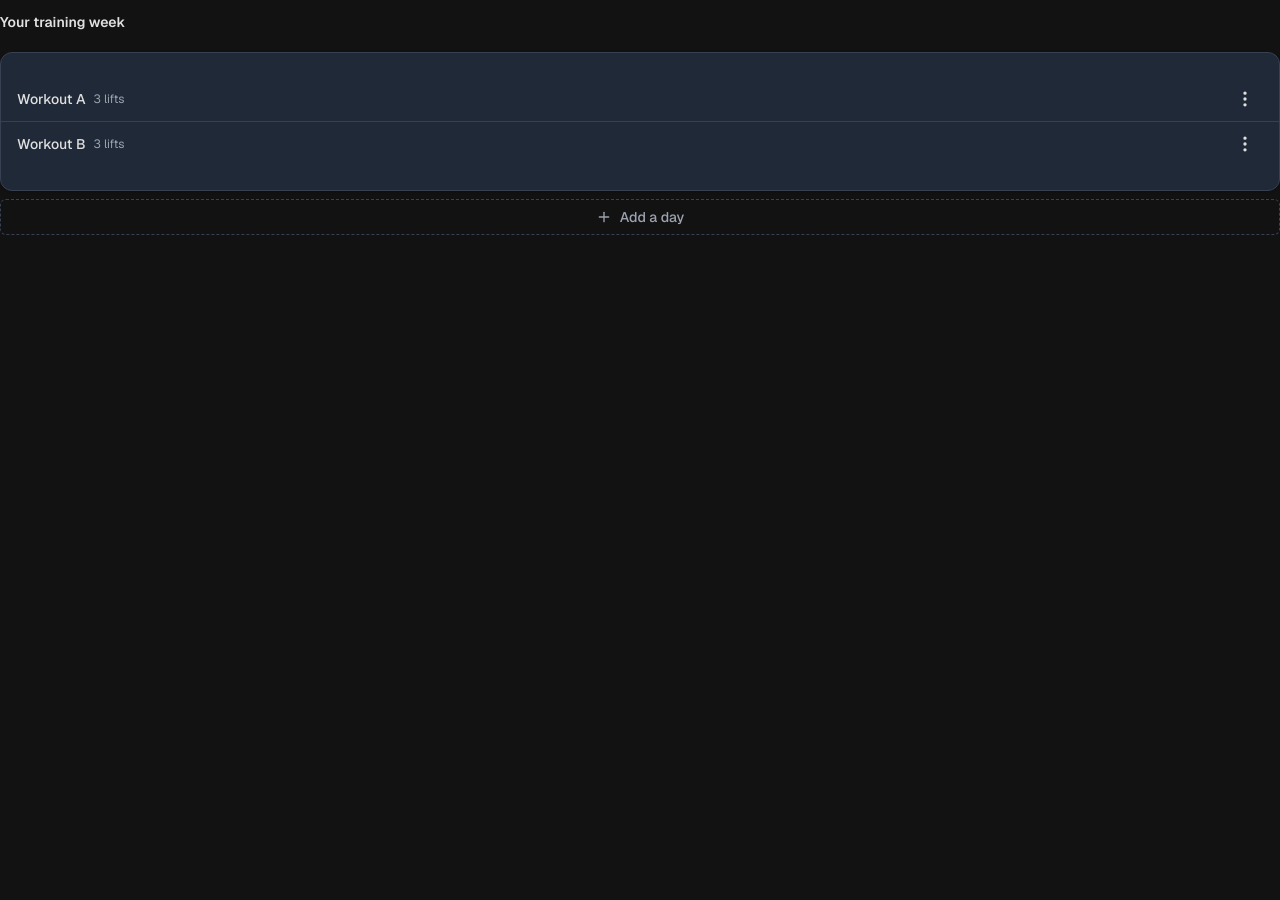
renaming a day › refuses a blank name with something to read, and changes nothing
Click the button named "Options for Workout A" at (1245, 99), box [1227,81,1263,117]
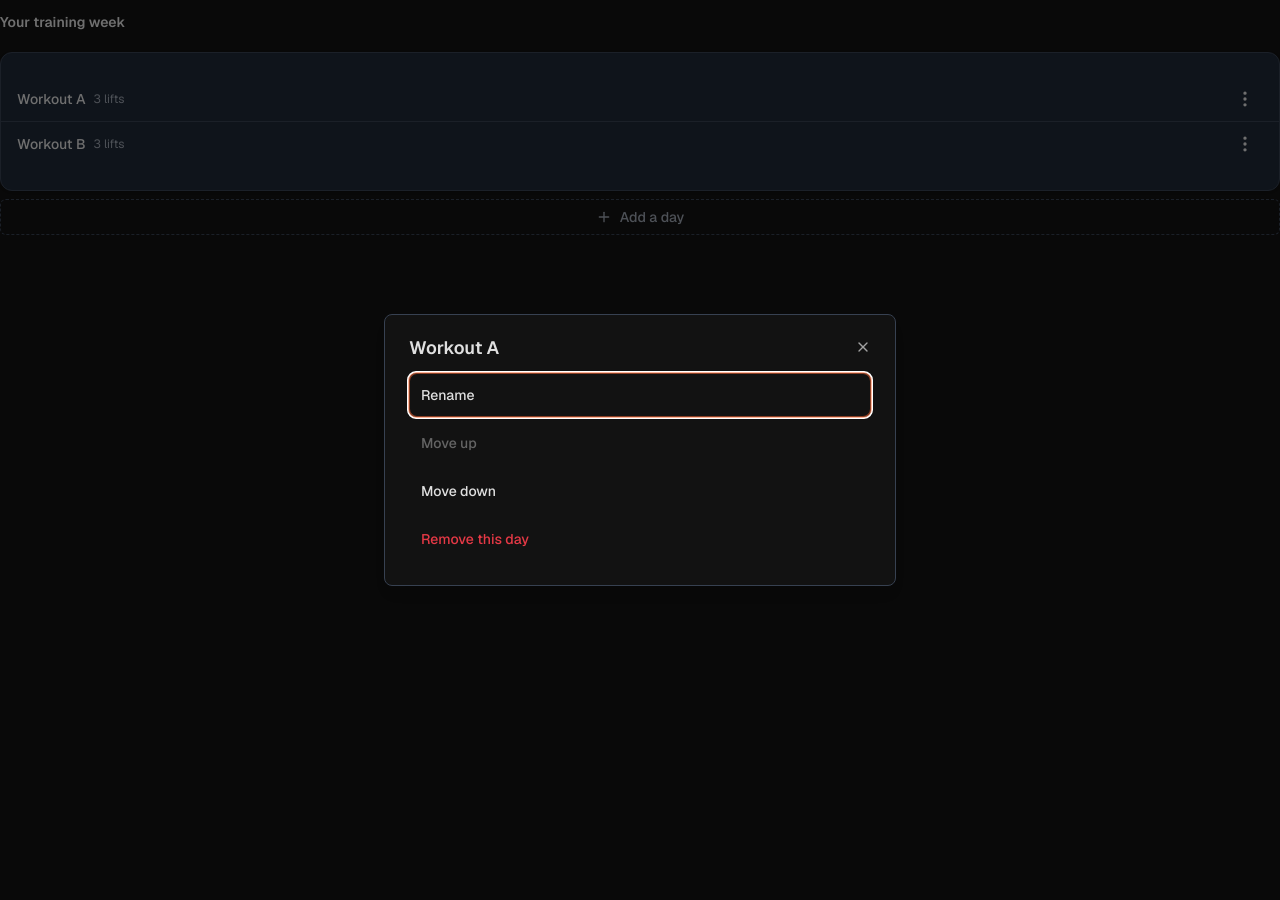
Click the button with test id "editor-day-rename" at (448, 395), box [409,373,871,417]
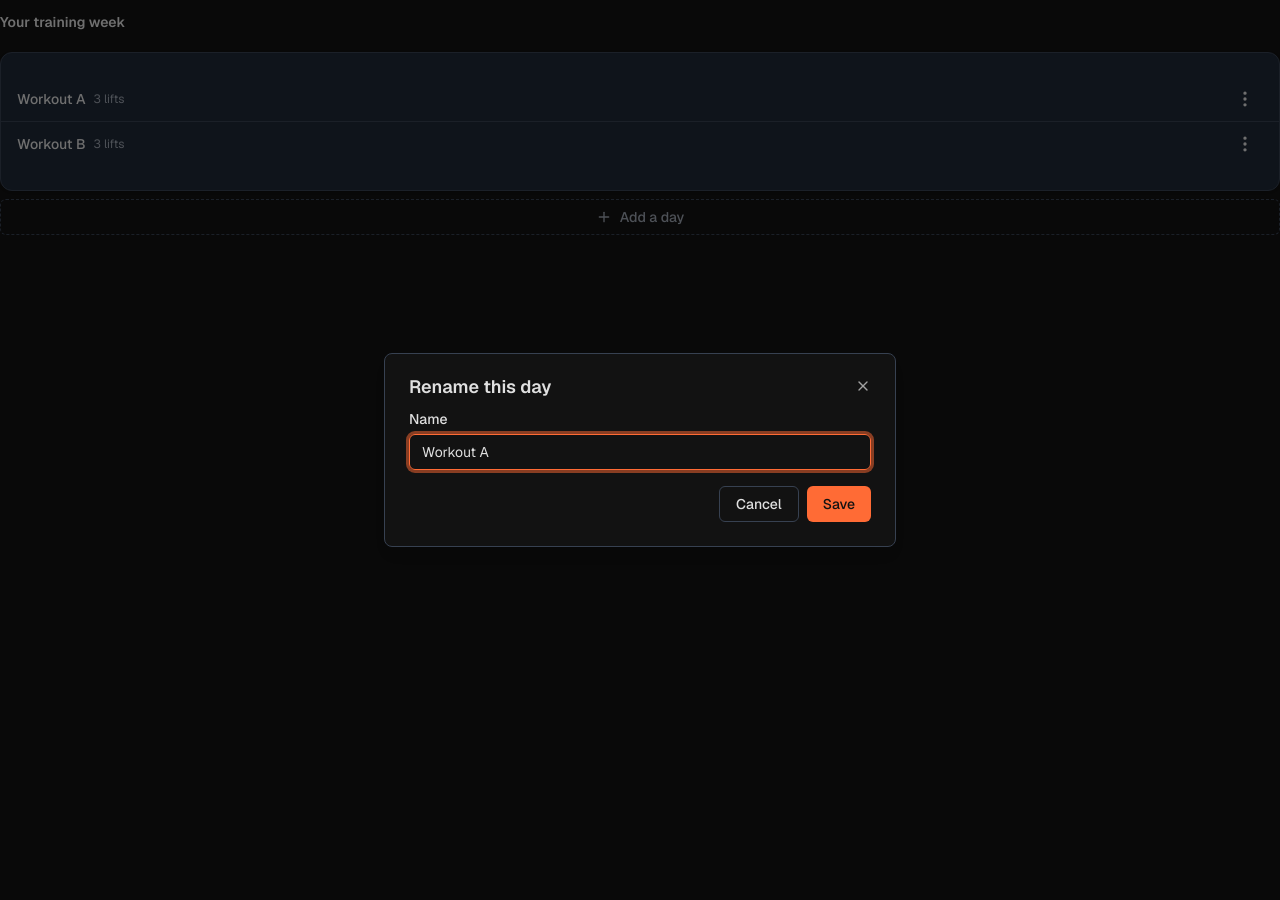
Clear the field labelled "Name" at (640, 452), box [409,434,871,470]
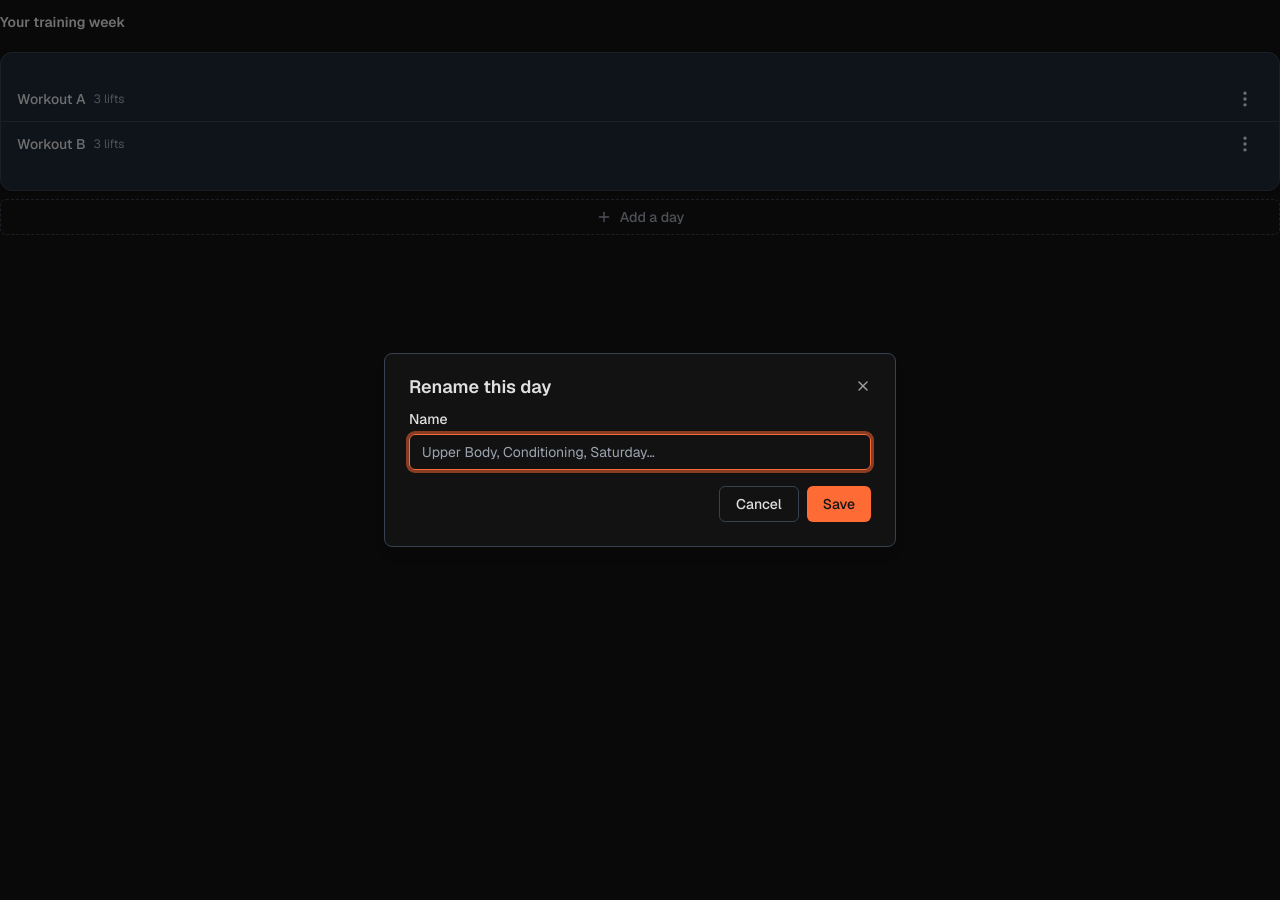
Click the button with test id "editor-name-save" at (839, 504), box [807,486,871,522]
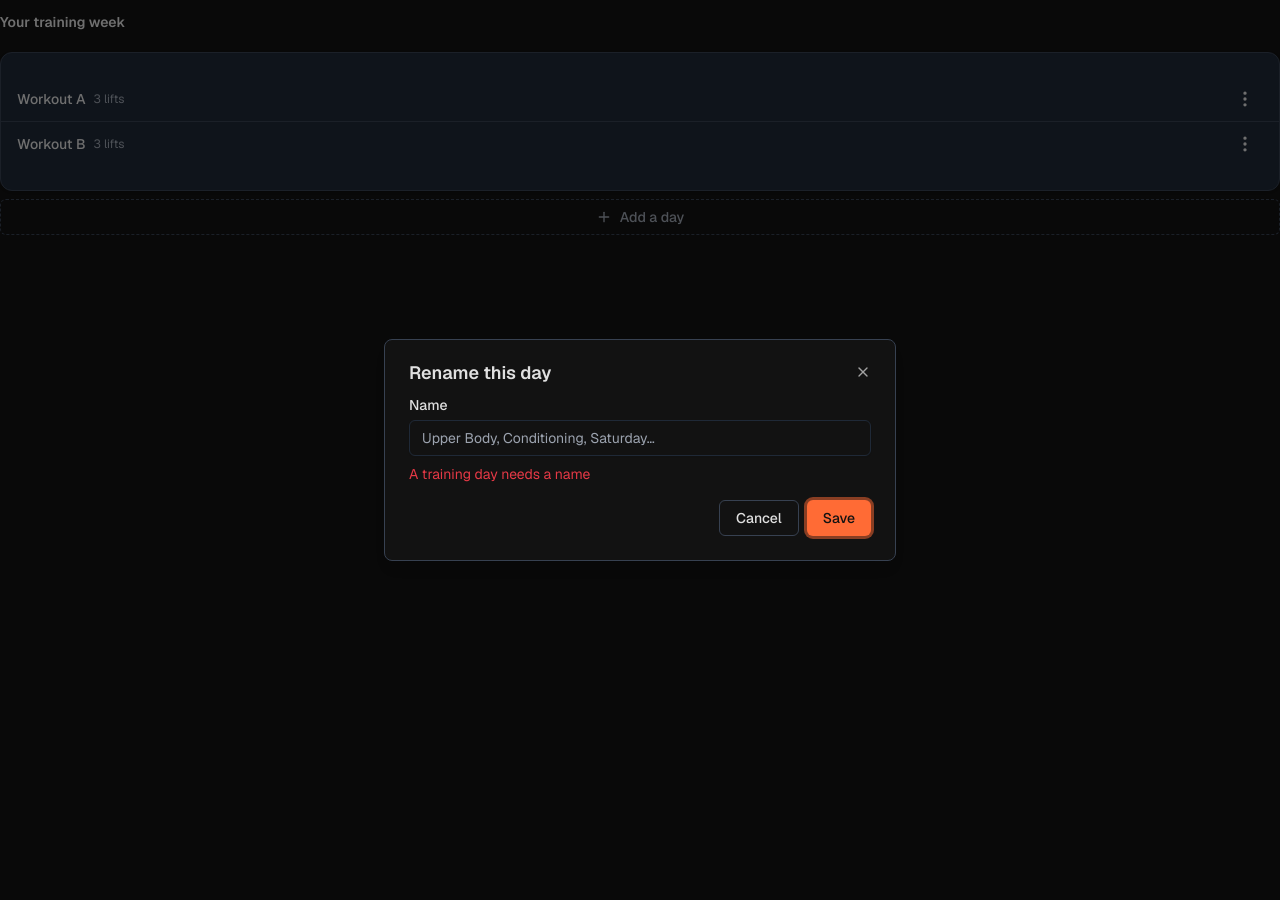
Check: the dialog with test id "editor-name-dialog" is shown, box [384,339,896,561]
Check: the message reads "A training day needs a name", box [409,465,590,483]
